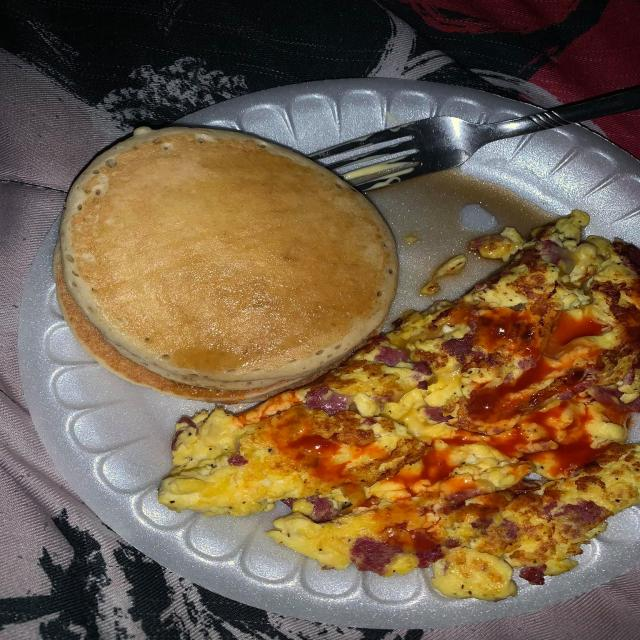Omelette: (394, 223, 630, 600)
Pancakes: (46, 120, 390, 396)
